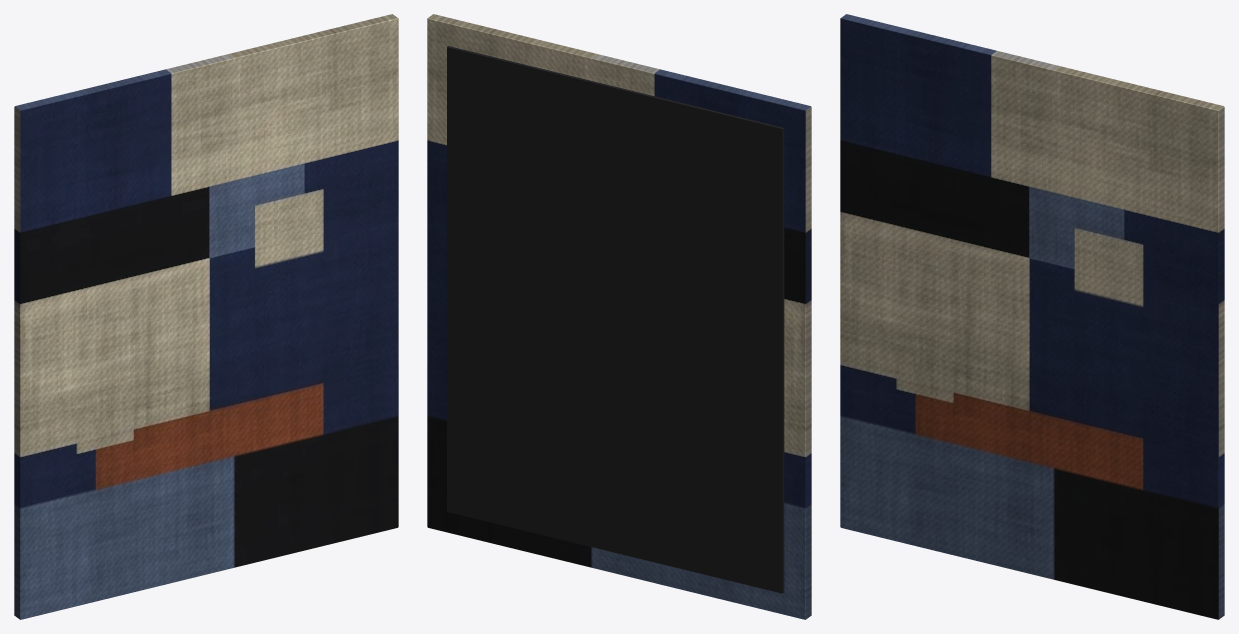
Rendered from art_weave_indigo.gltf.
The picture shows the model from 3 angles, left to right: view 1: azimuth 30°, elevation 25°; view 2: azimuth 150°, elevation 25°; view 3: azimuth 330°, elevation 25°; orthographic projection.
Visible parts, largest first — view 1: Art_WeaveIndigo_Art; view 2: Art_WeaveIndigo_Spacer, Art_WeaveIndigo_Art; view 3: Art_WeaveIndigo_Art.
Part boxes in pixels (x1=…): Art_WeaveIndigo_Art: x1=14, y1=14, x2=398, y2=619; Art_WeaveIndigo_Spacer: x1=447, y1=46, x2=784, y2=593; Art_WeaveIndigo_Art: x1=427, y1=14, x2=811, y2=619; Art_WeaveIndigo_Art: x1=840, y1=14, x2=1224, y2=619.
Bounding box in the file's own units: 1.4 × 1.8 × 0.05.
Materials: 2 (1 with a texture image).
